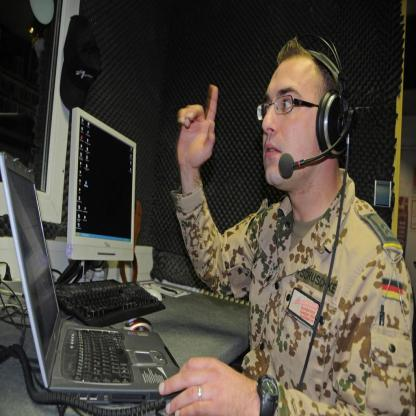board: (0, 154, 186, 395)
